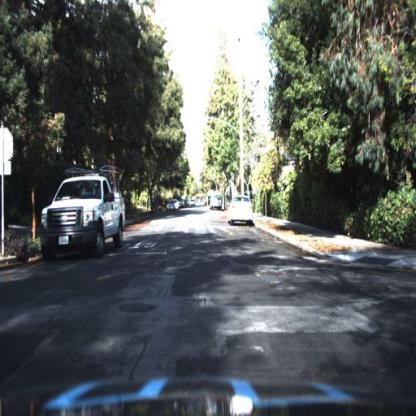car: (35, 158, 127, 267), (227, 193, 256, 231), (209, 191, 224, 212), (163, 197, 179, 215), (164, 199, 176, 214), (189, 198, 198, 209)
